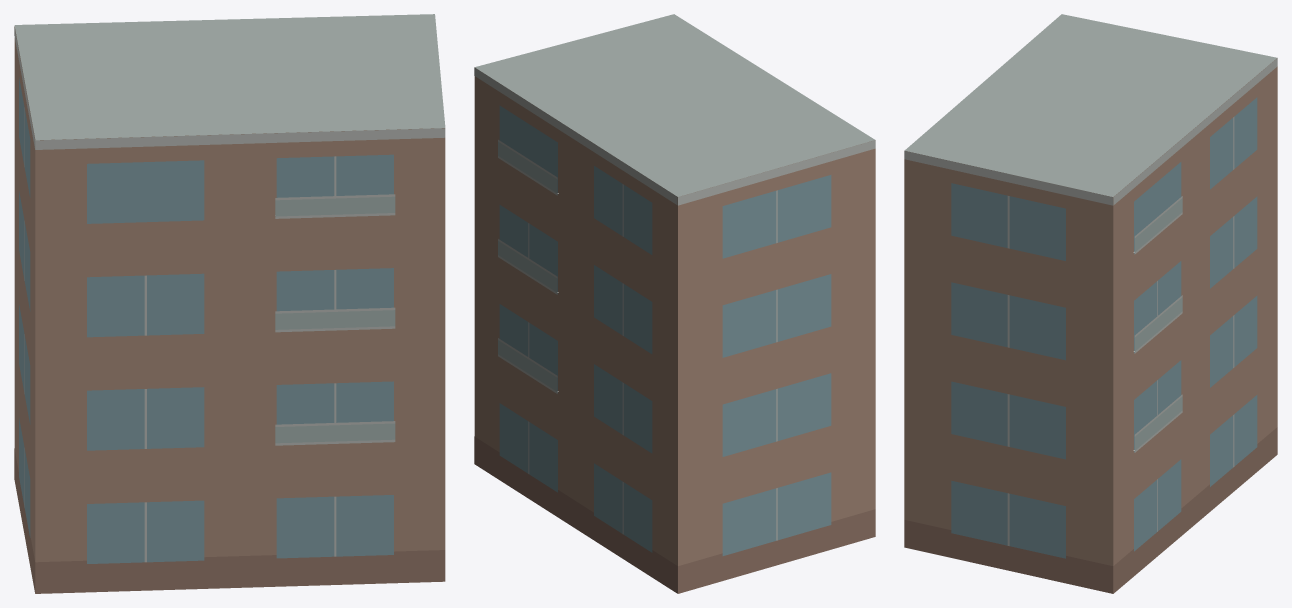
Rendered from survey-upis-32727970.glb.
3 renders of one model, left to right at view 1: azimuth 30°, elevation 25°; view 2: azimuth 150°, elevation 25°; view 3: azimuth 270°, elevation 25°, orthographic. The views are drawn at different scales.
Visible parts, largest first — view 1: survey-upis-32727970.tmp; view 2: survey-upis-32727970.tmp; view 3: survey-upis-32727970.tmp.
Boxes of the visible parts, left/top/right/bottom form: survey-upis-32727970.tmp: left=14, top=14, right=445, bottom=593; survey-upis-32727970.tmp: left=474, top=14, right=875, bottom=593; survey-upis-32727970.tmp: left=904, top=14, right=1277, bottom=593.
Size of the model in its own units: 11.2 by 11.3 by 9.64.
